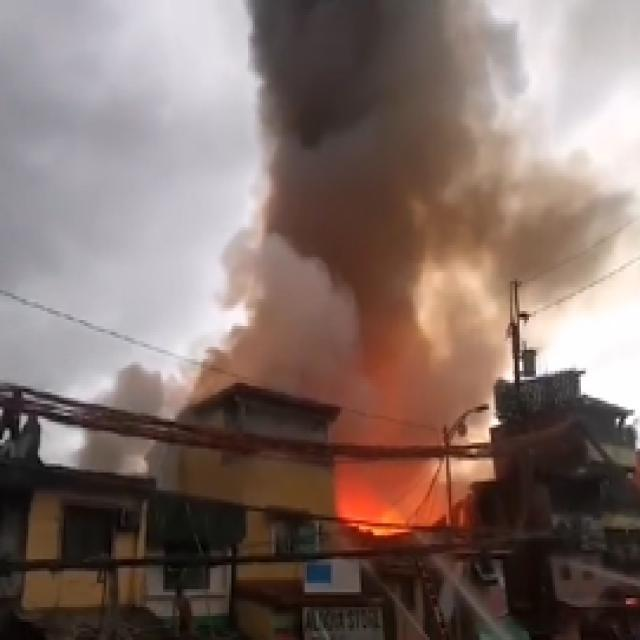Fire: (340, 467, 443, 533)
Smoke: (252, 9, 614, 272), (245, 274, 497, 394)
